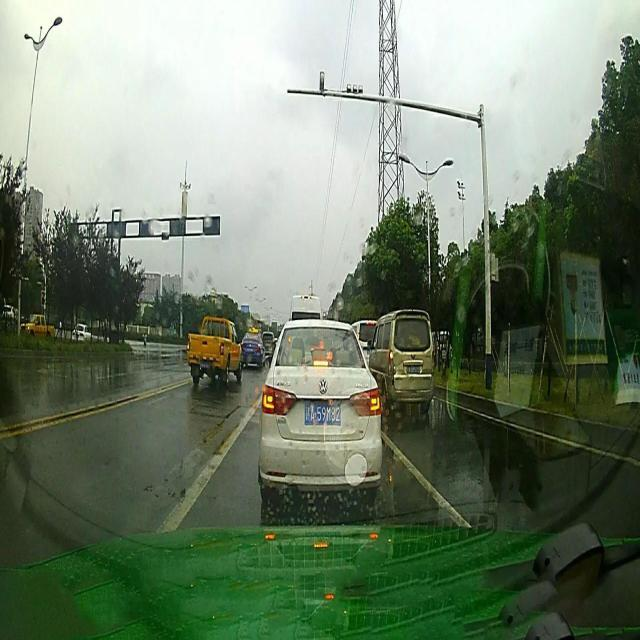car: (256, 318, 381, 507), (366, 308, 434, 422), (240, 329, 264, 368)
